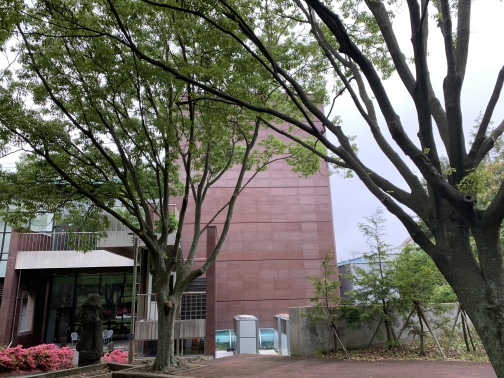Museum: (4, 174, 236, 369)
